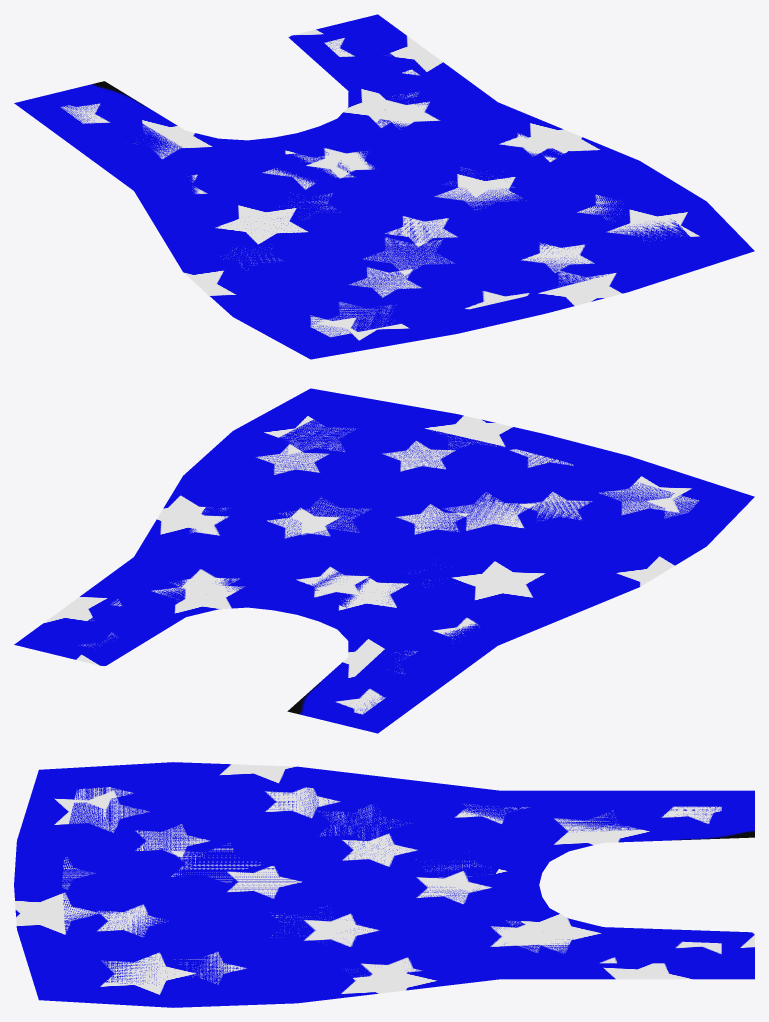
Rendered from Dress.FBX.
3 views of the same model, one above another, from view 1: azimuth 30°, elevation 25°; view 2: azimuth 150°, elevation 25°; view 3: azimuth 270°, elevation 25° (orthographic). The views are drawn at different scales.
Parts seen in each view (by area): view 1: DressGlow, Dress; view 2: DressGlow, Dress; view 3: DressGlow, Dress.
Part boxes in pixels (box(x1,y1,x2,y2)): DressGlow: box(14, 14, 754, 359); Dress: box(60, 33, 699, 337); DressGlow: box(14, 388, 754, 733); Dress: box(60, 410, 698, 714); DressGlow: box(14, 762, 754, 1007); Dress: box(62, 783, 721, 986).
Size of the model in its own units: 133 by 0.00163 by 170.
Materials: 1 (1 with a texture image).
